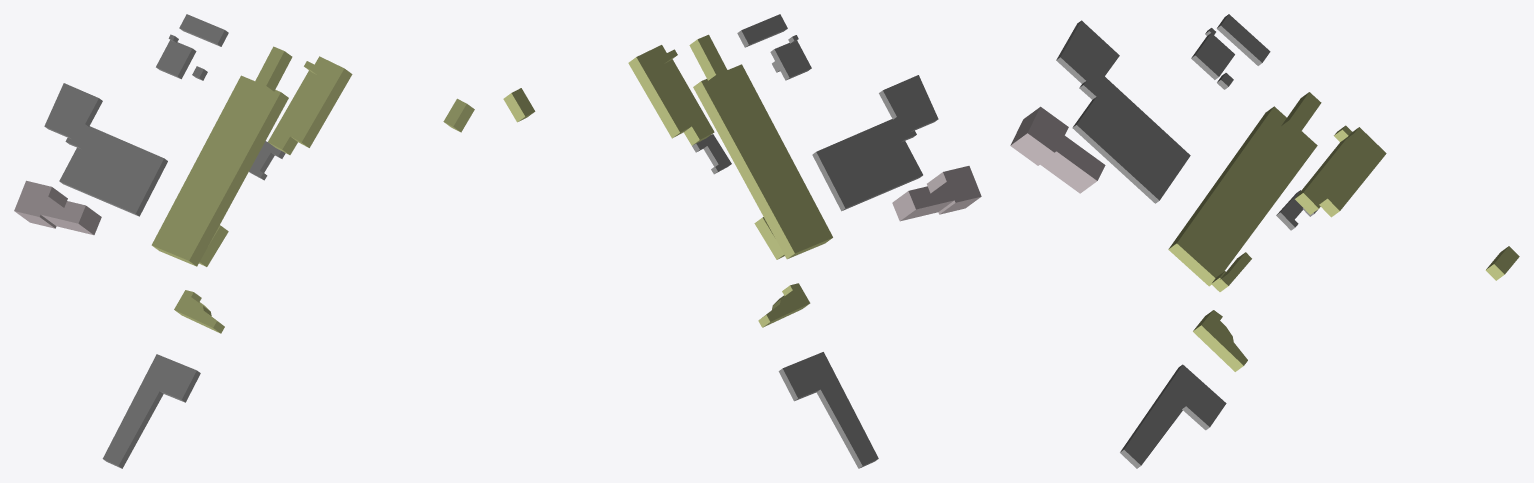
The picture shows the model from 3 angles, left to right: view 1: azimuth 30°, elevation 25°; view 2: azimuth 150°, elevation 25°; view 3: azimuth 330°, elevation 25°; orthographic projection. The views are drawn at different scales.
Visible parts, largest first — view 1: 0_1_0_0_0_2_0; view 2: 0_1_0_0_0_2_0; view 3: 0_1_0_0_0_2_0.
Part boxes in pixels (x1,y1,x2,y2): 0_1_0_0_0_2_0: (14, 14, 474, 468); 0_1_0_0_0_2_0: (503, 14, 981, 468); 0_1_0_0_0_2_0: (1010, 14, 1519, 468).
Size of the model in its own units: 197 by 178 by 16.8.
